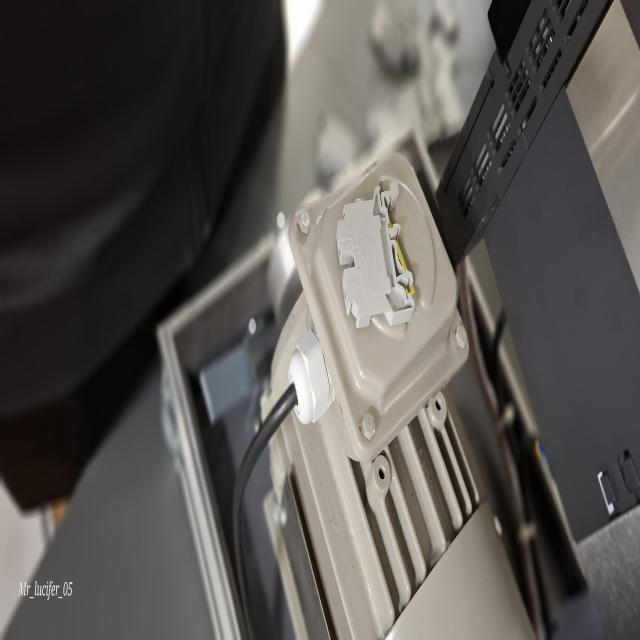Inverted: (332, 174, 422, 342)
